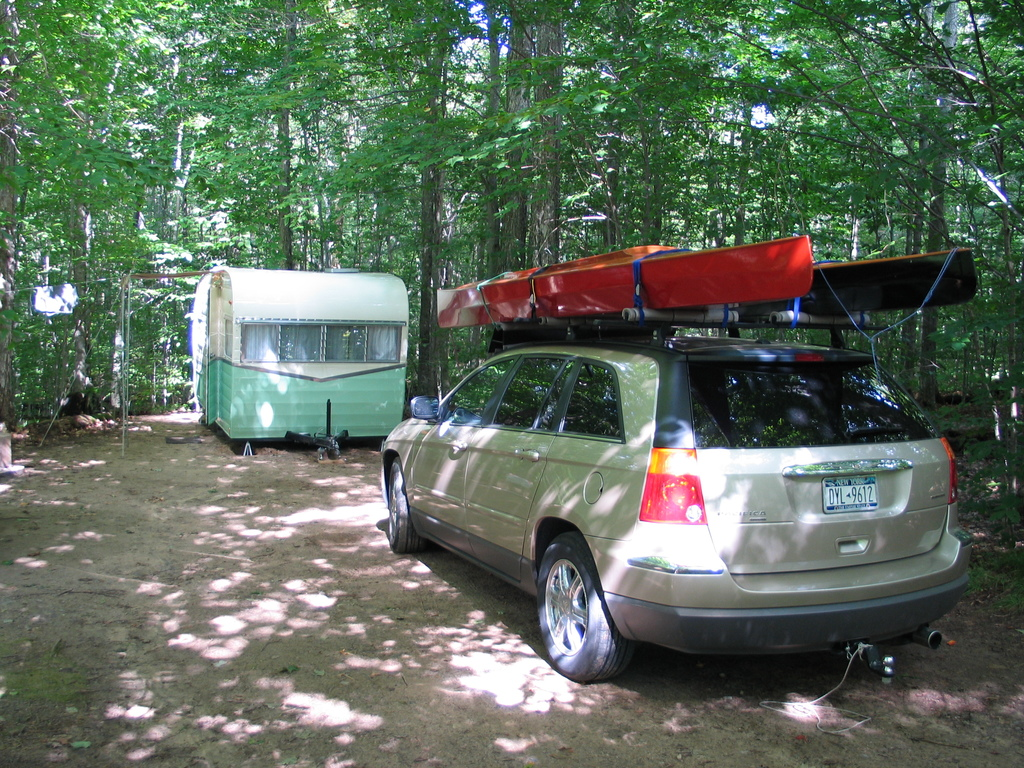mobil: (388, 317, 986, 704)
